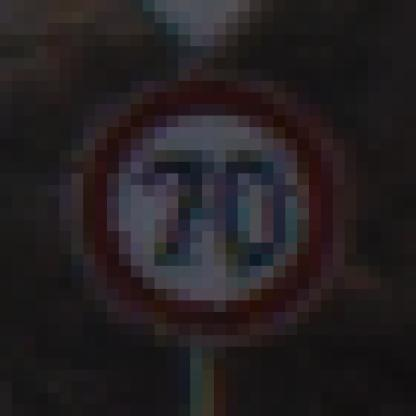Speed Limit 70: (83, 78, 337, 335)
